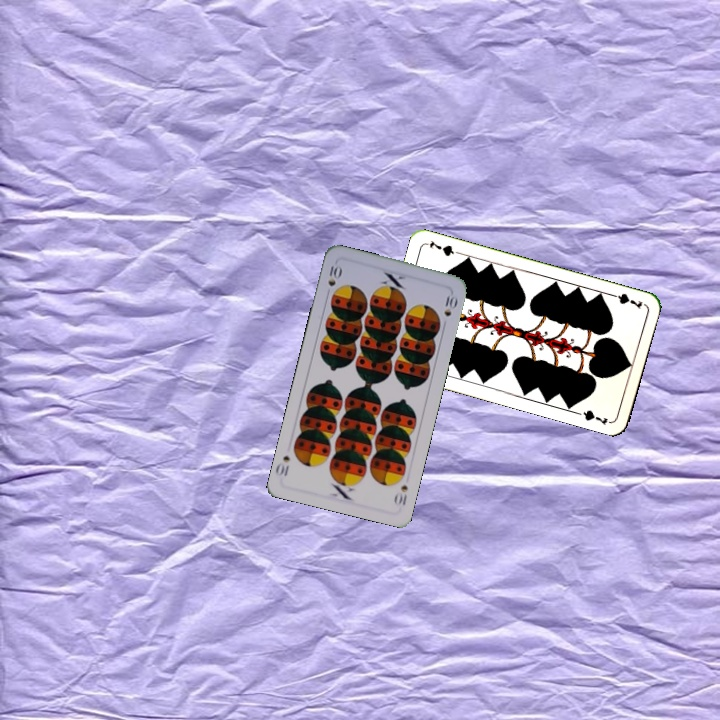G7: (605, 289, 645, 311)
S10: (322, 261, 344, 299), (390, 481, 410, 508)
